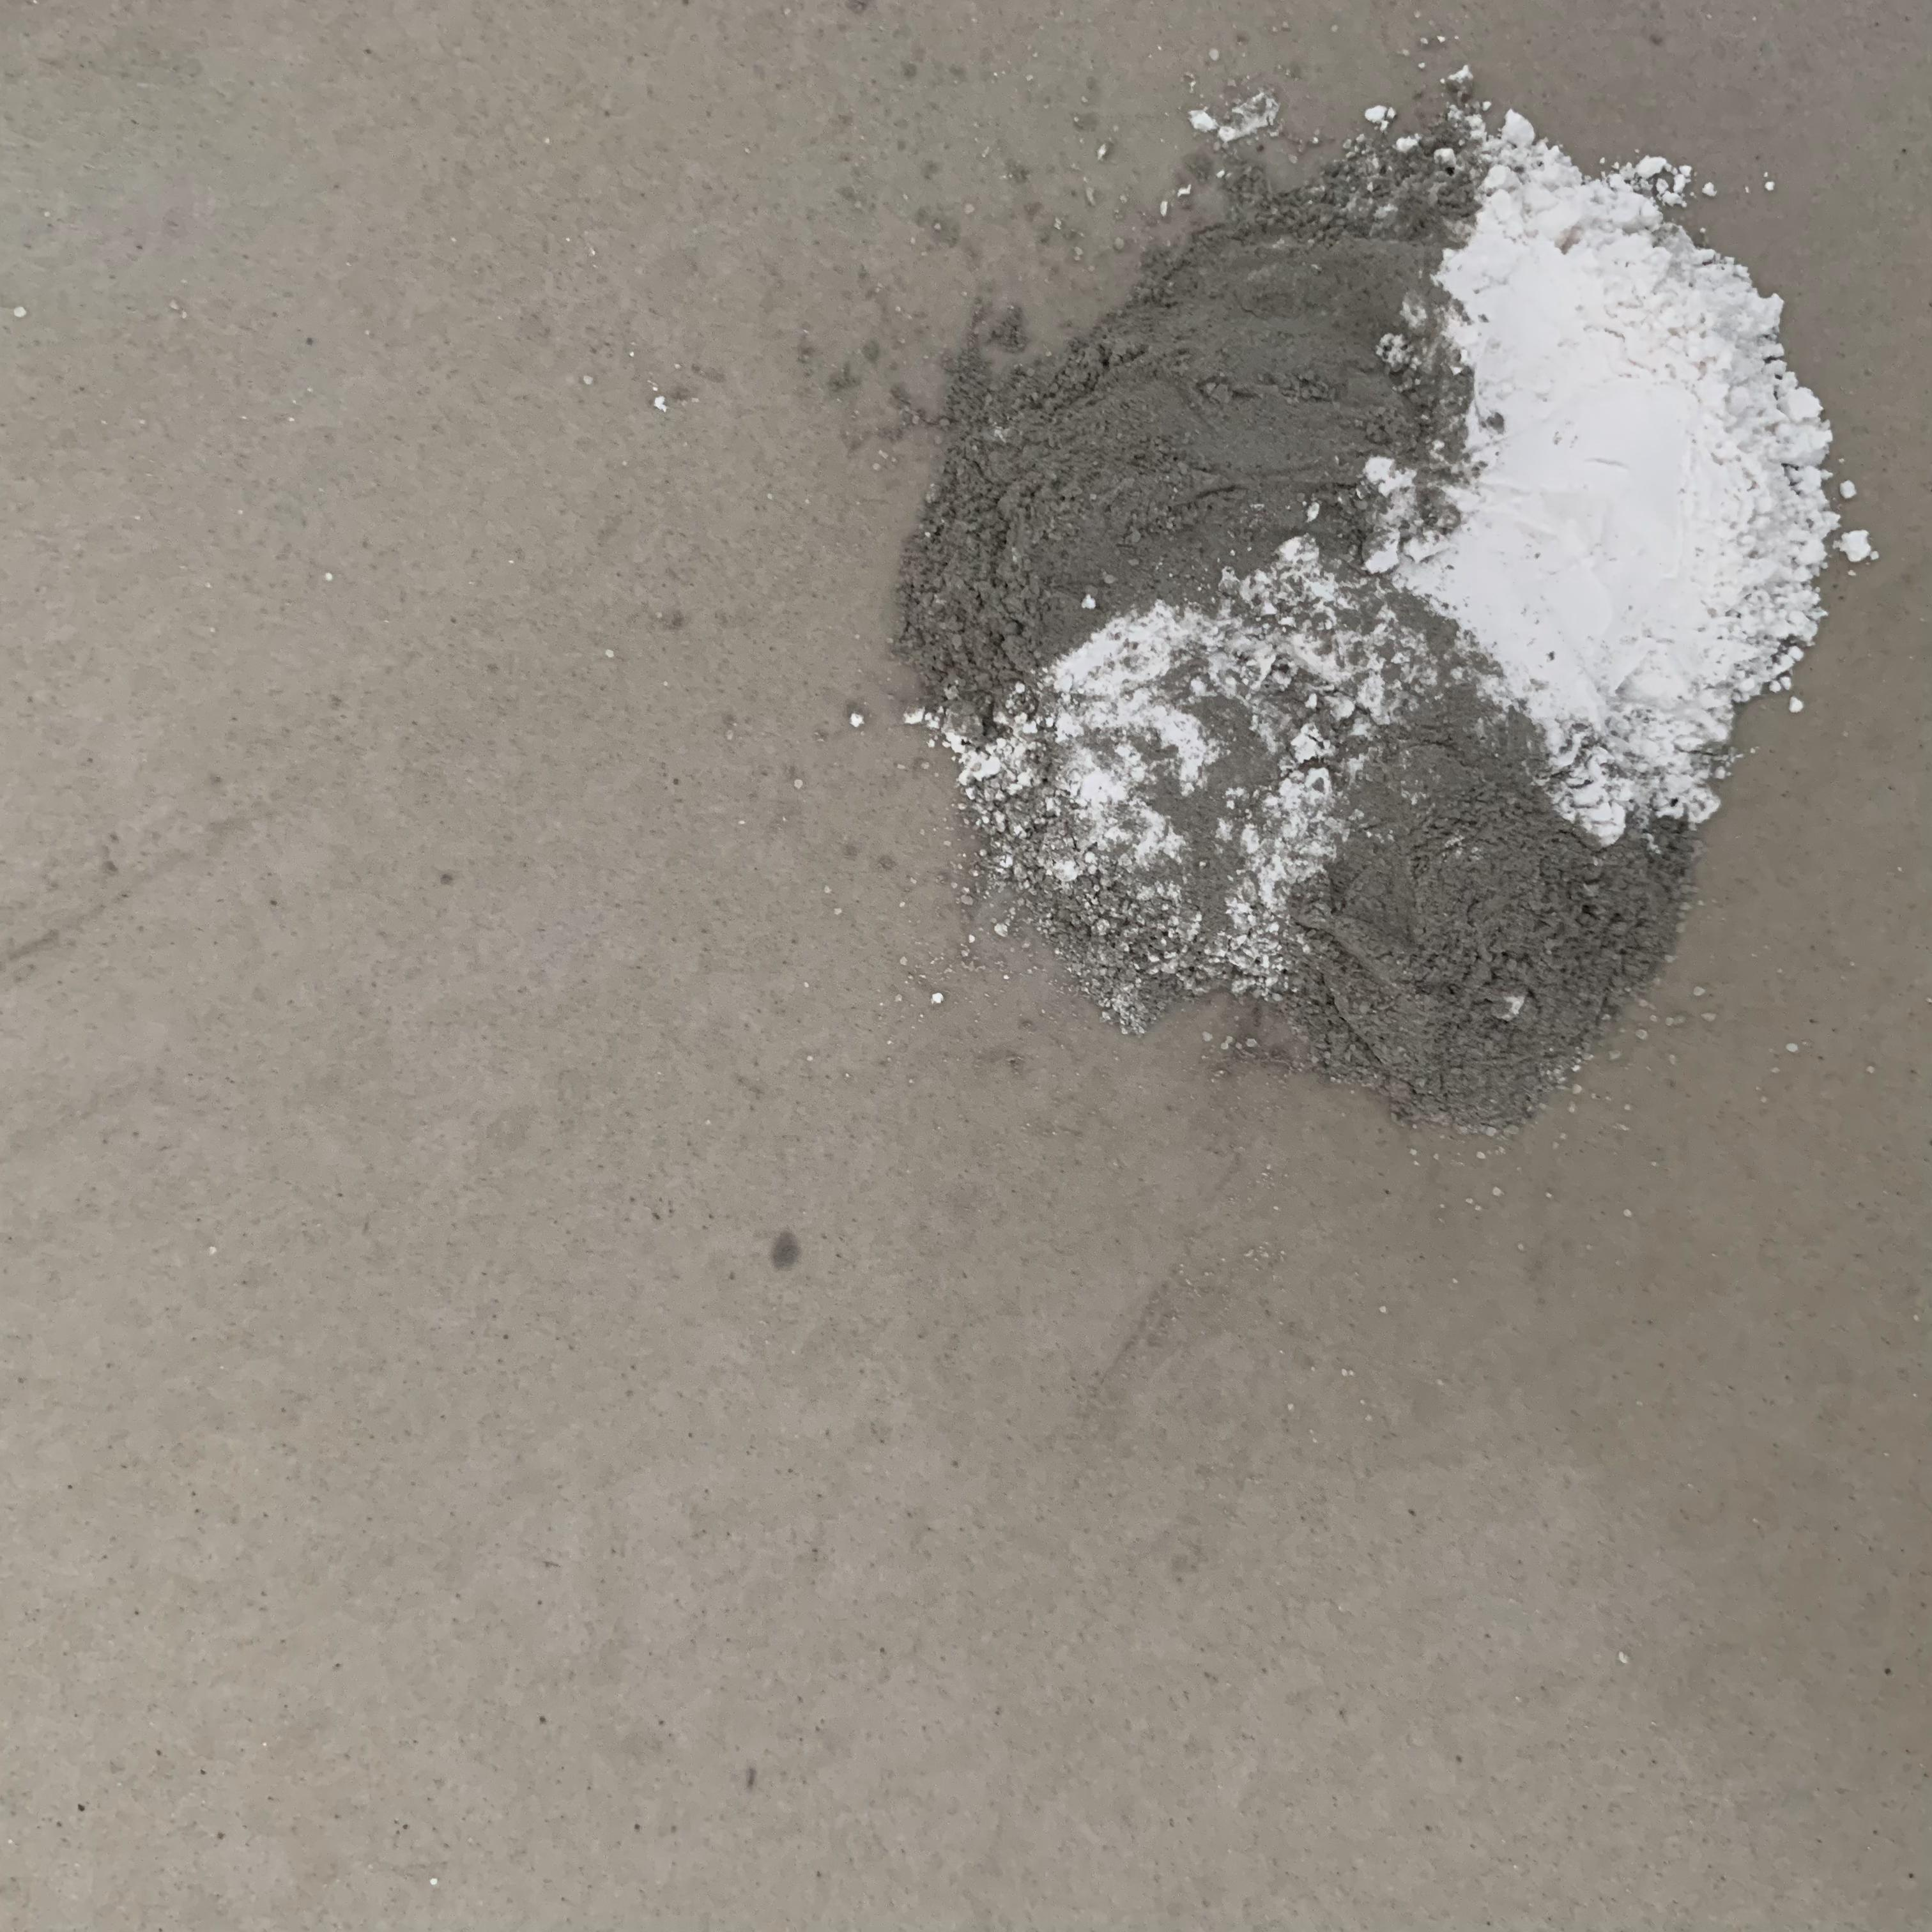ash pile: (881, 92, 1877, 1116)
